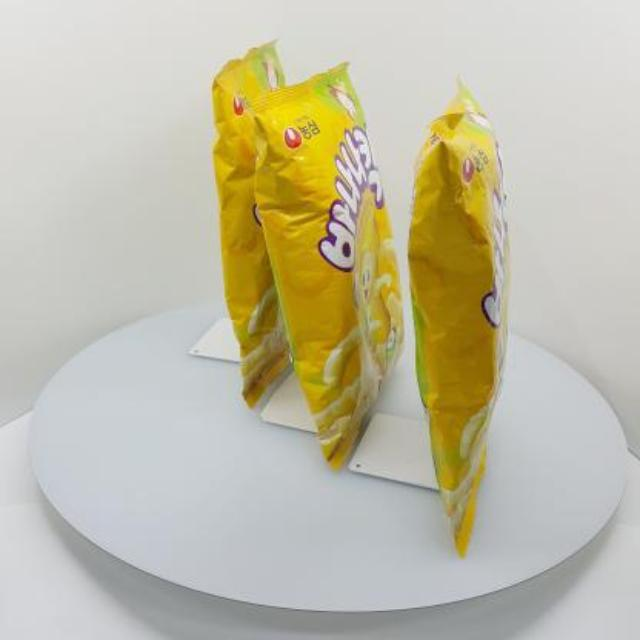snack_bag: (198, 28, 548, 568)
